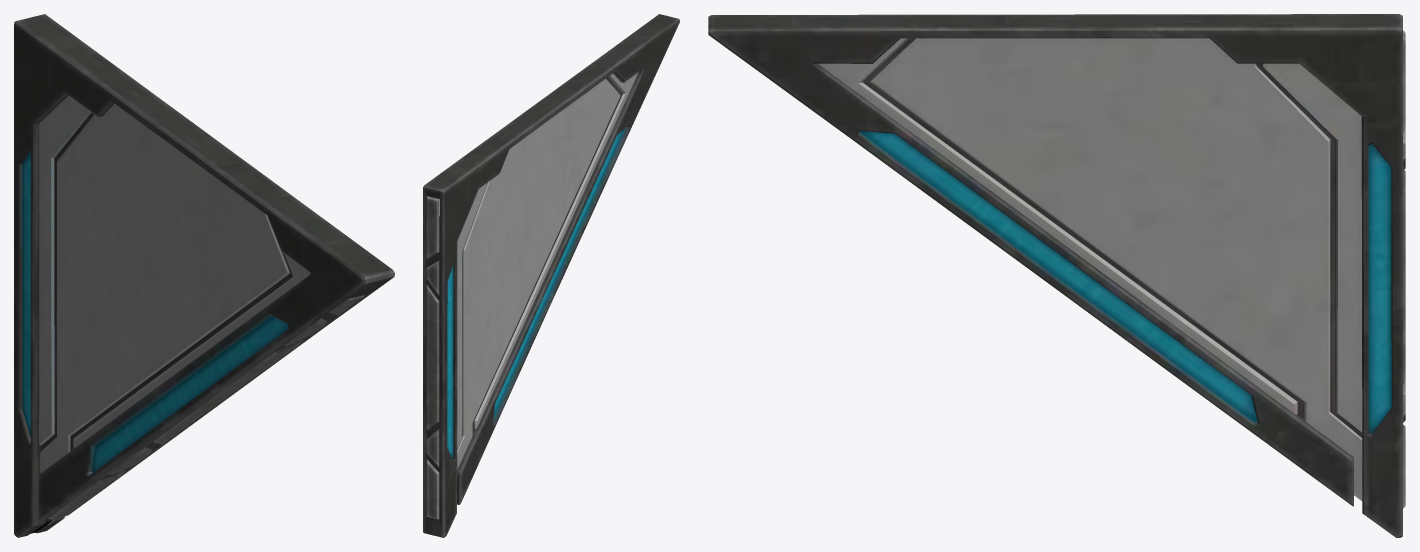
File: SM_WallTryangleReverse_Ancient_b3006a.glb
3 renders of one model, left to right at view 1: azimuth 30°, elevation 25°; view 2: azimuth 150°, elevation 25°; view 3: azimuth 270°, elevation 25°, orthographic. The views are drawn at different scales.
Size of the model in its own units: 0.2106 by 3.23 by 4.01.
Materials: 1 (1 with a texture image).
